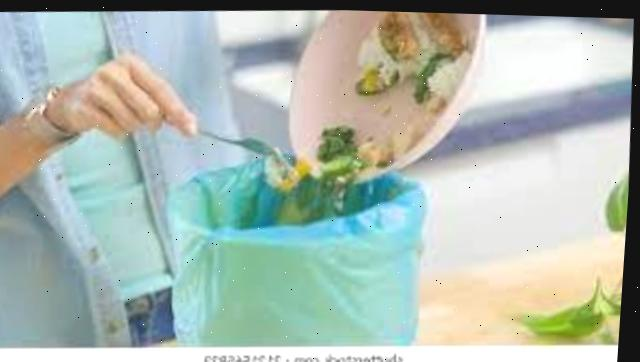Garbage: (290, 8, 483, 176)
contaminated_waste: (356, 9, 471, 99)
